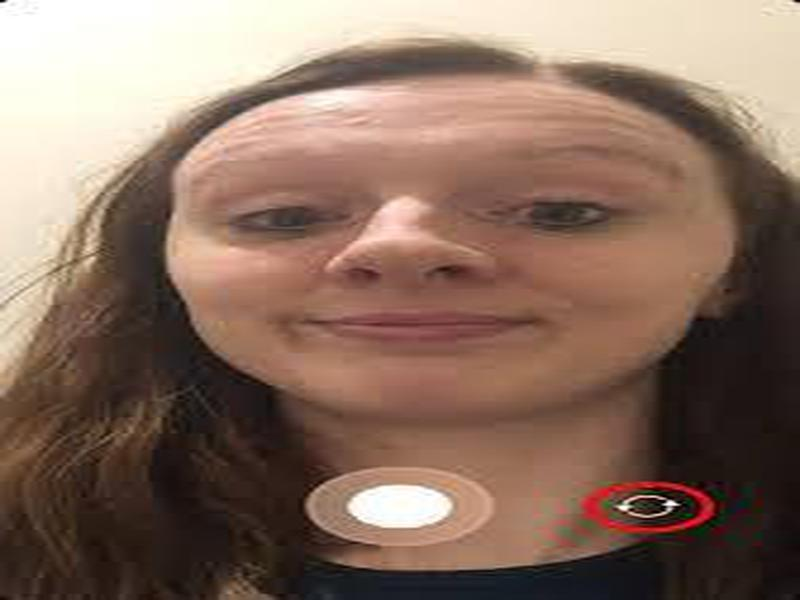without_mask: (167, 136, 717, 416)
